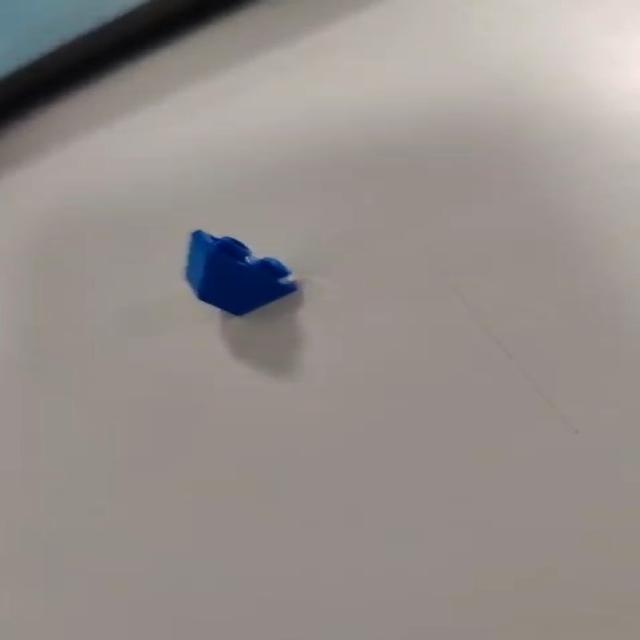X1x2x1: (183, 226, 306, 325)
